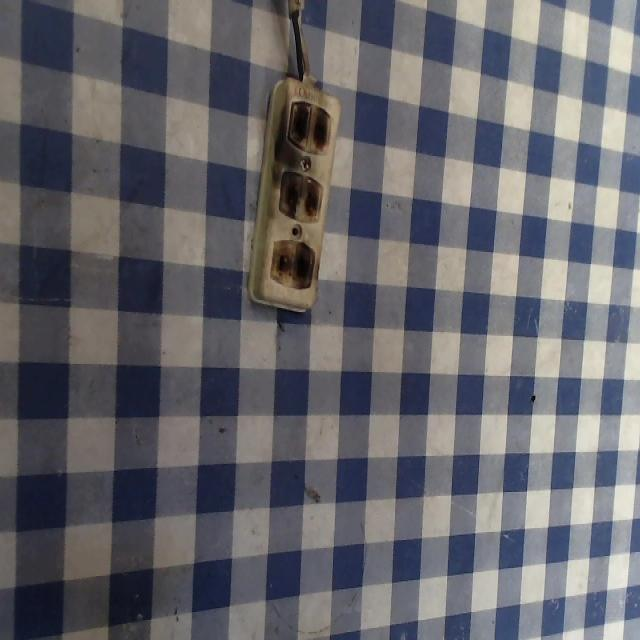-: (274, 90, 346, 162), (265, 228, 323, 303), (269, 160, 329, 228)
